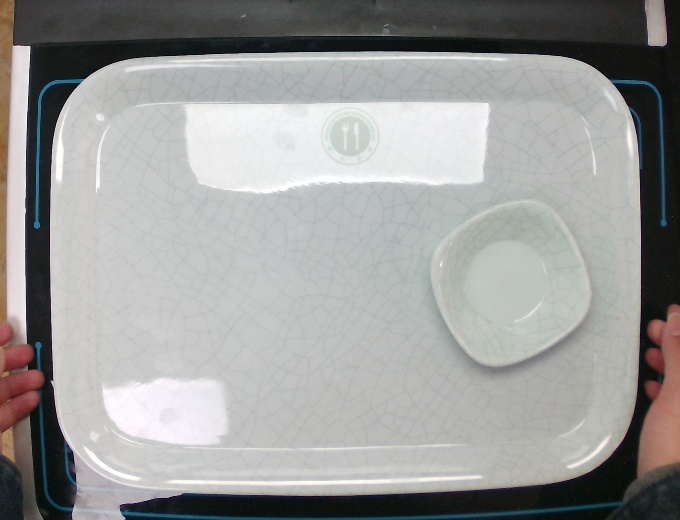JYsf-Si_Fang_Die: (429, 200, 592, 365)
